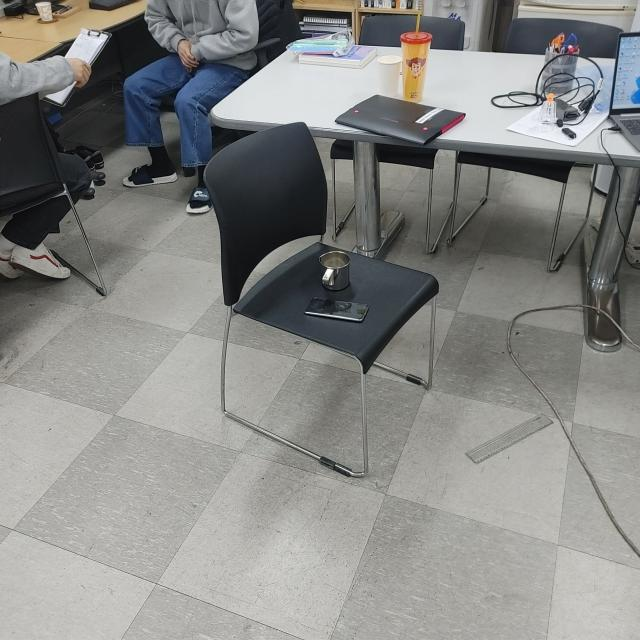cup: (316, 248, 354, 294)
phone: (304, 294, 370, 326)
